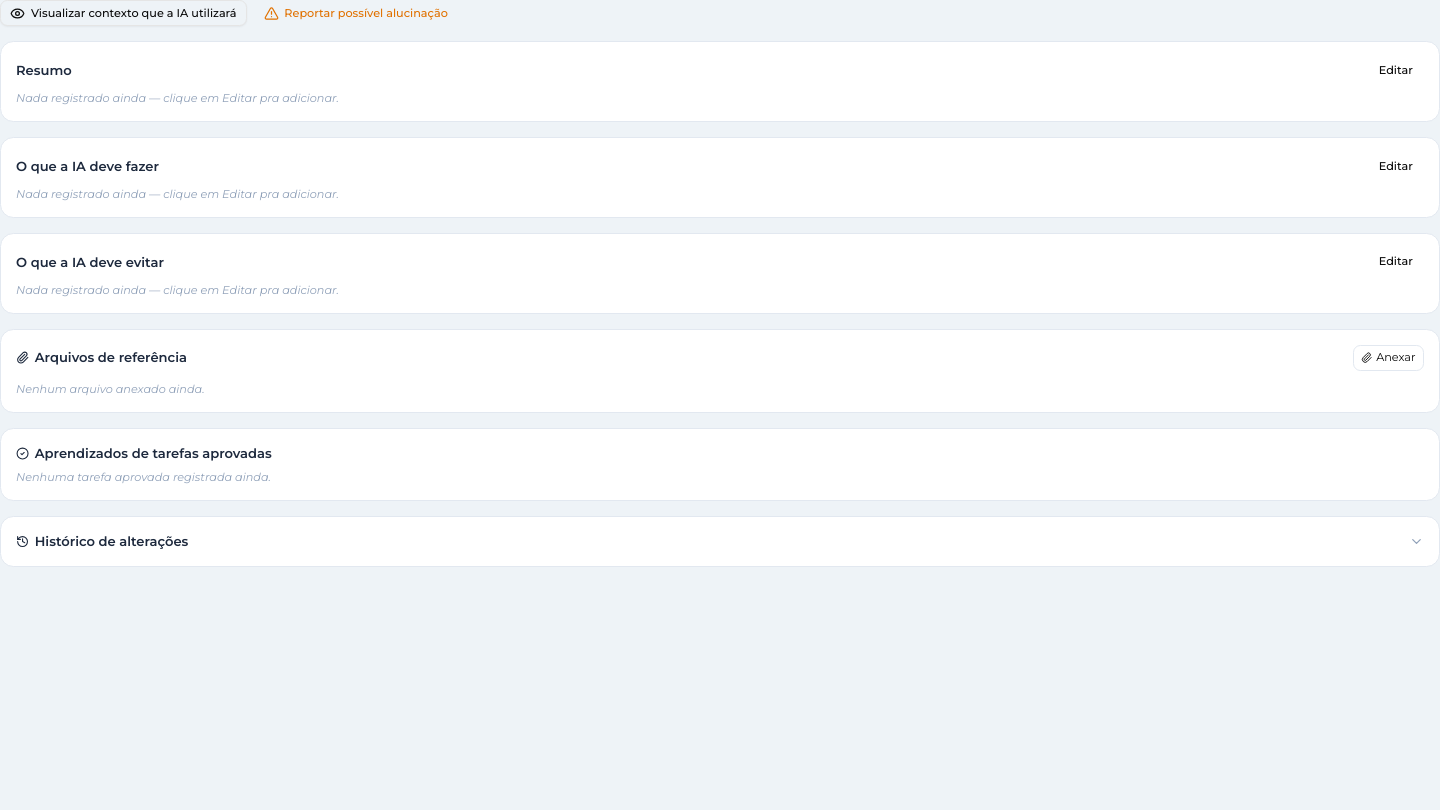
Scenario: MemoryPanel › cancelar edição sem alteração fecha direto; com alteração pede confirmação antes de descartar
This screenshot has width=1440, height=810.
expect the heading "Resumo" is shown: met, box [16,61,72,80]
Click the button "Editar" in the row of "Resumo".
click(1396, 70)  # box [1368,57,1424,84]
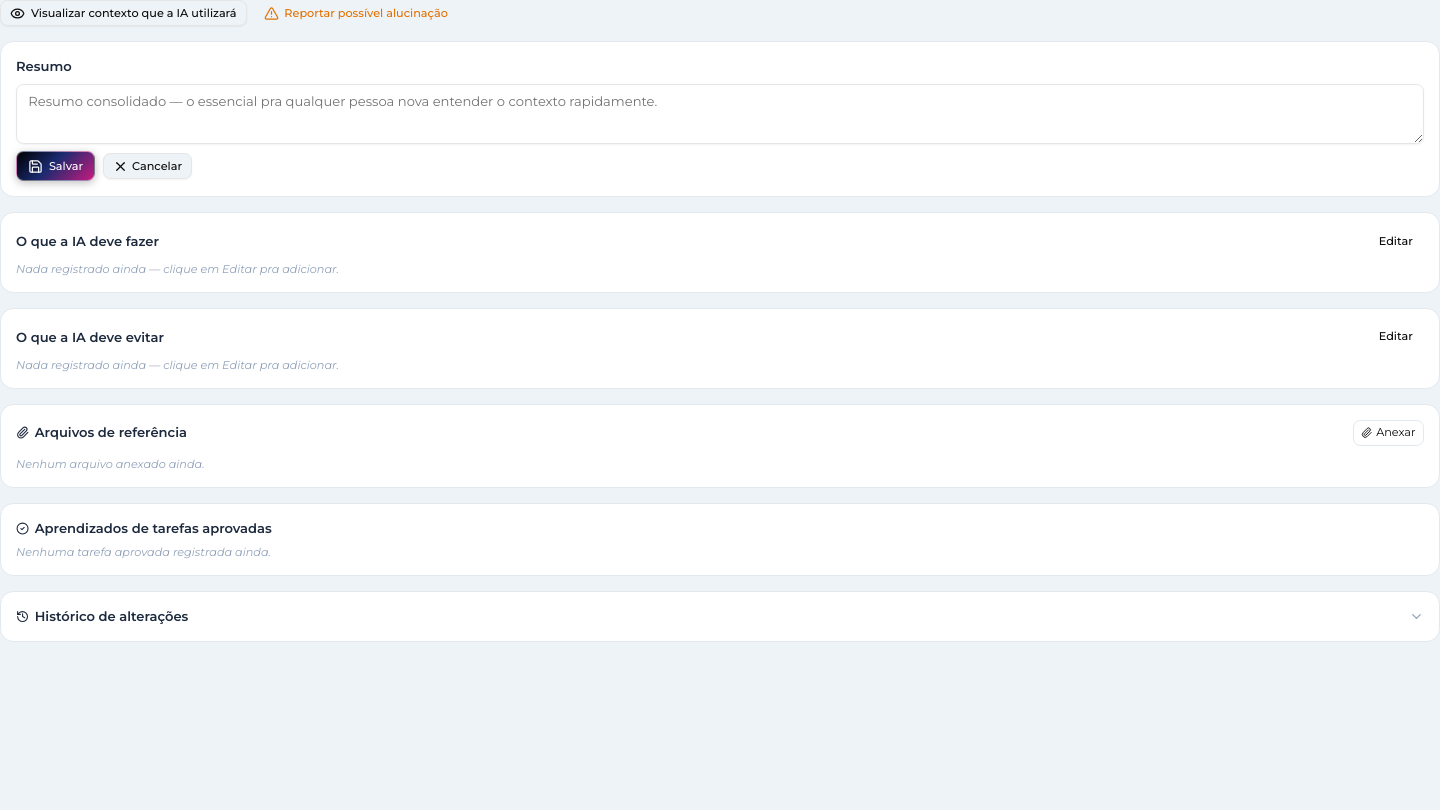
Type "algo digitado" into the text box with placeholder "Resumo consolidado".
click(720, 114); type("algo digitado")  # box [16,84,1424,144]
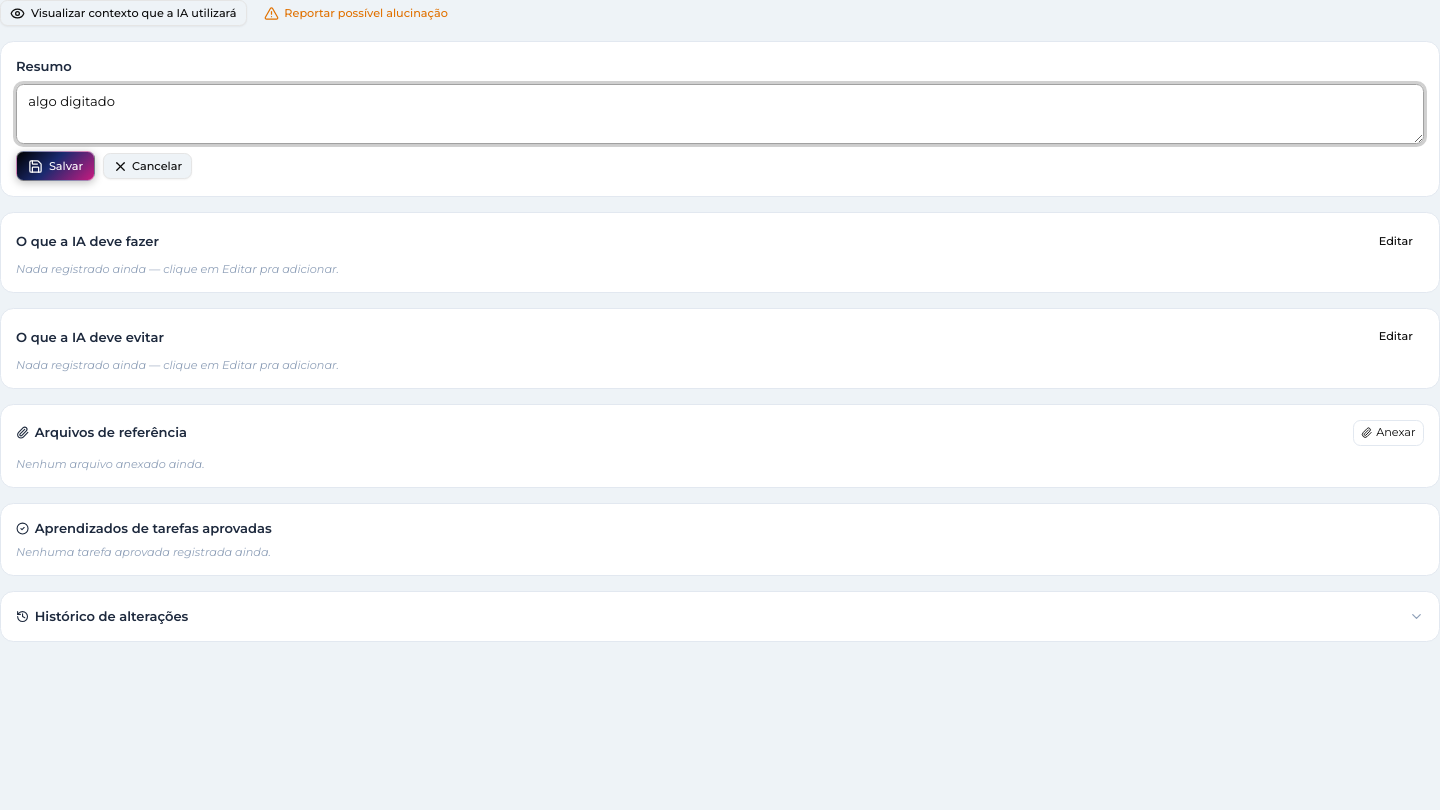
Click the button "Cancelar".
click(148, 166)  # box [103,153,192,179]
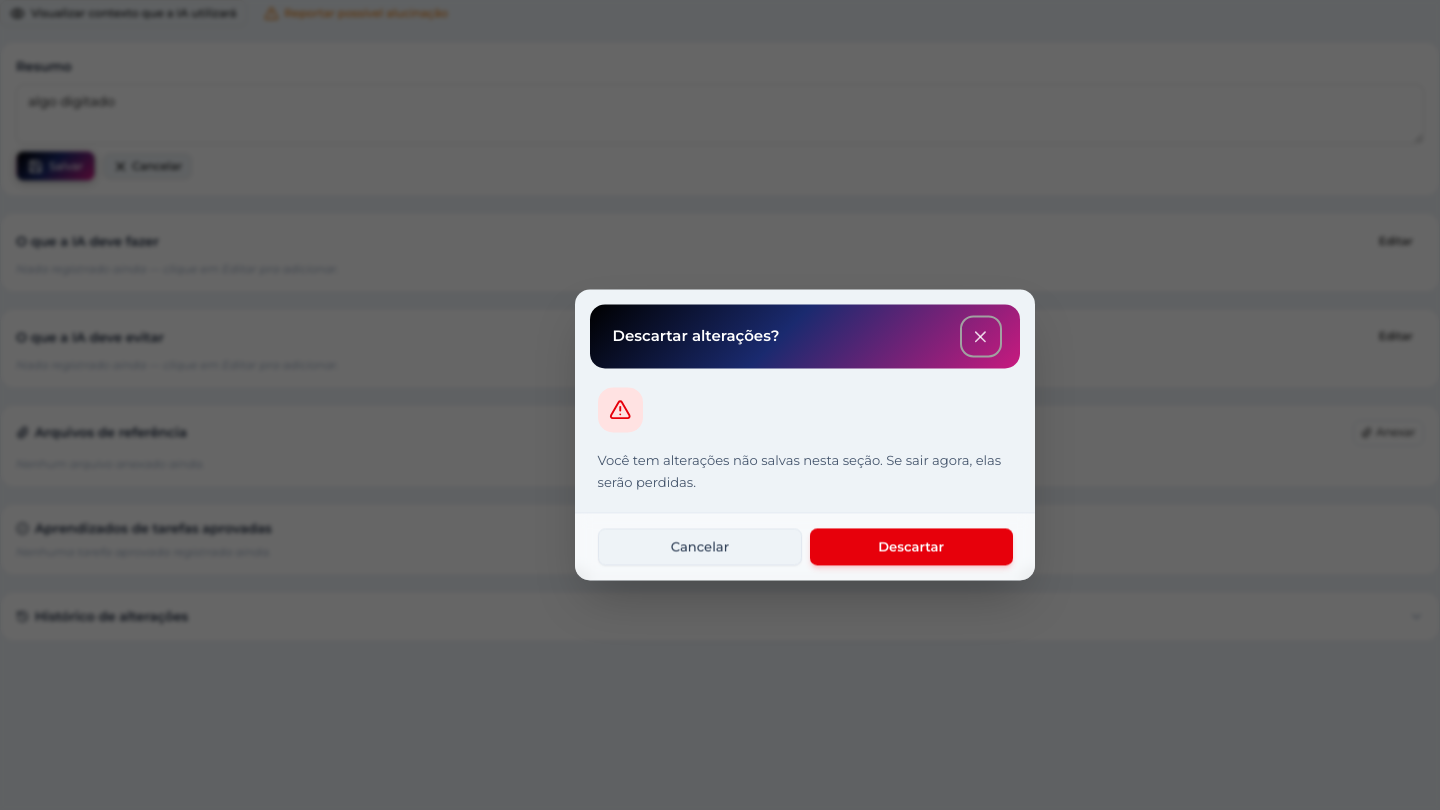
expect the text "Descartar alterações?" is shown: met, box [612,326,779,345]
Click the button "Descartar".
click(911, 547)  # box [810,528,1013,566]
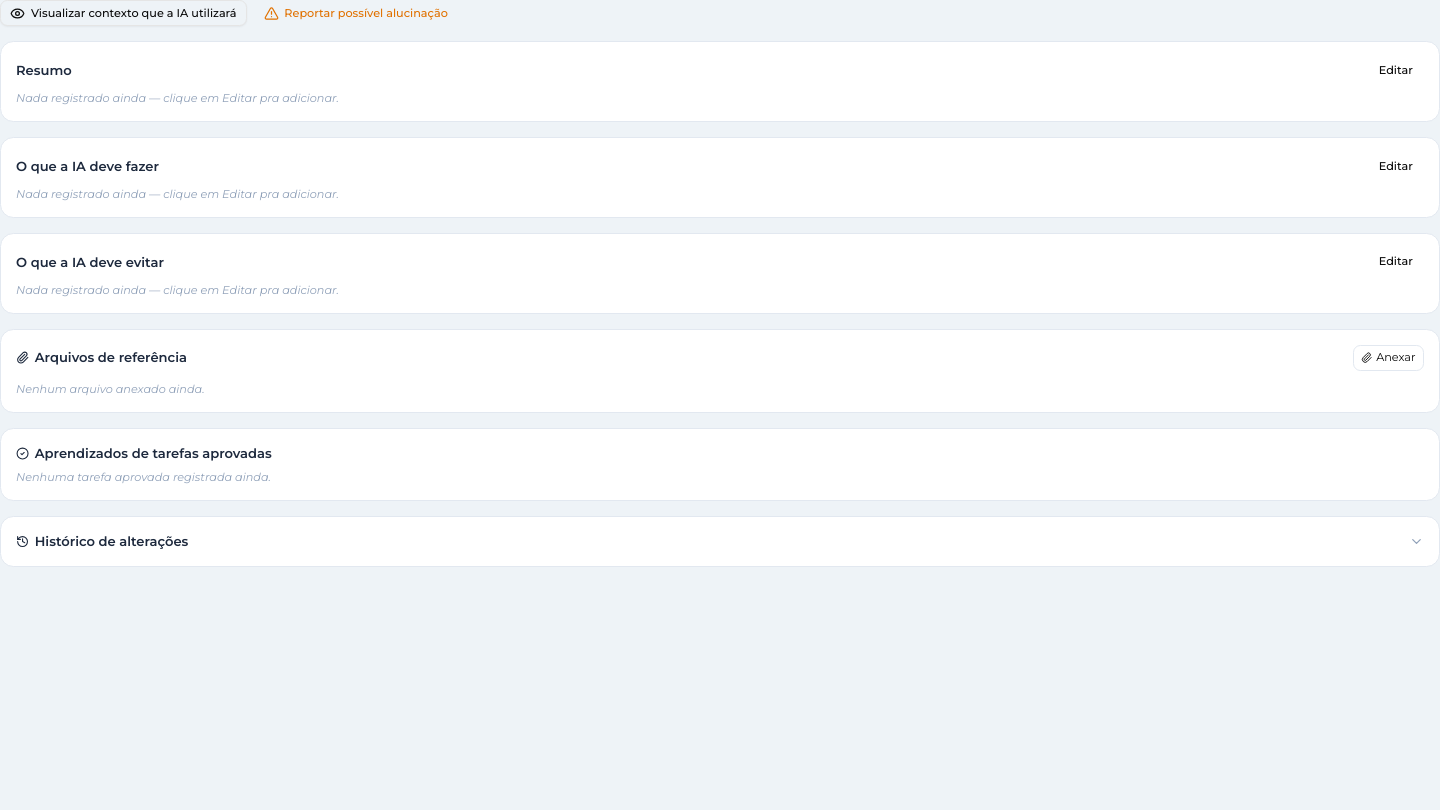
expect the text "Descartar alterações?" is gone: met
